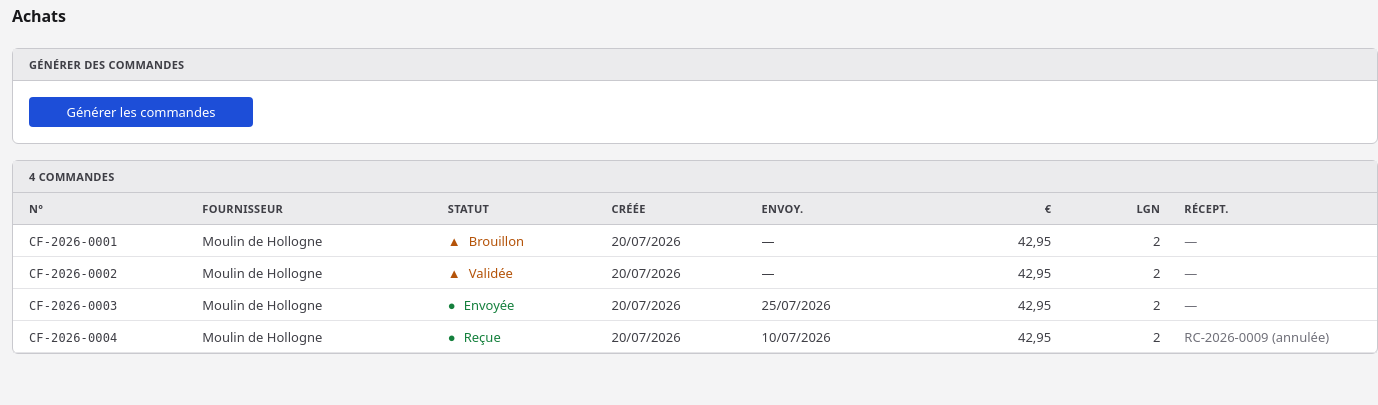
Test: Achats — chargement, prêt, erreur › une génération refusée affiche la raison du serveur, jamais un succès muet
Expected: the row "CF-2026-0001" is shown, [13,225,1377,257]
Click the button "Générer les commandes" at (141, 112), box [29,97,253,127]
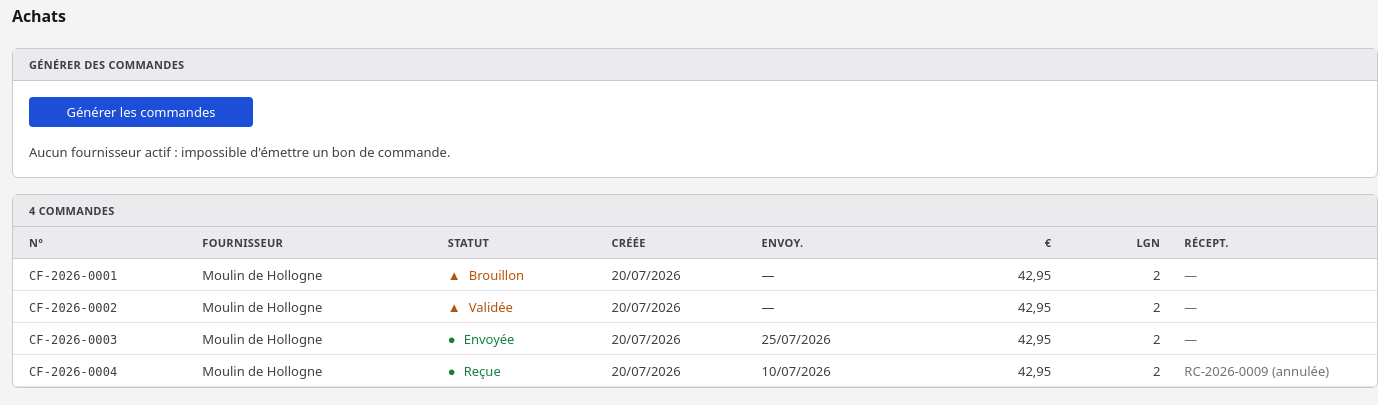
Now the message shows "Aucun fournisseur actif", box [29,143,450,161]
